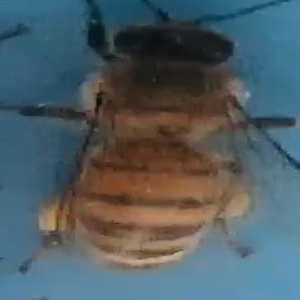bee: (55, 2, 297, 278)
